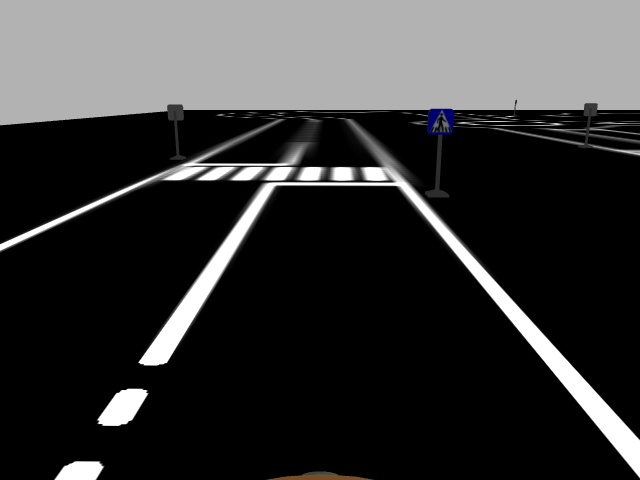crosswalk: (427, 105, 456, 138)
